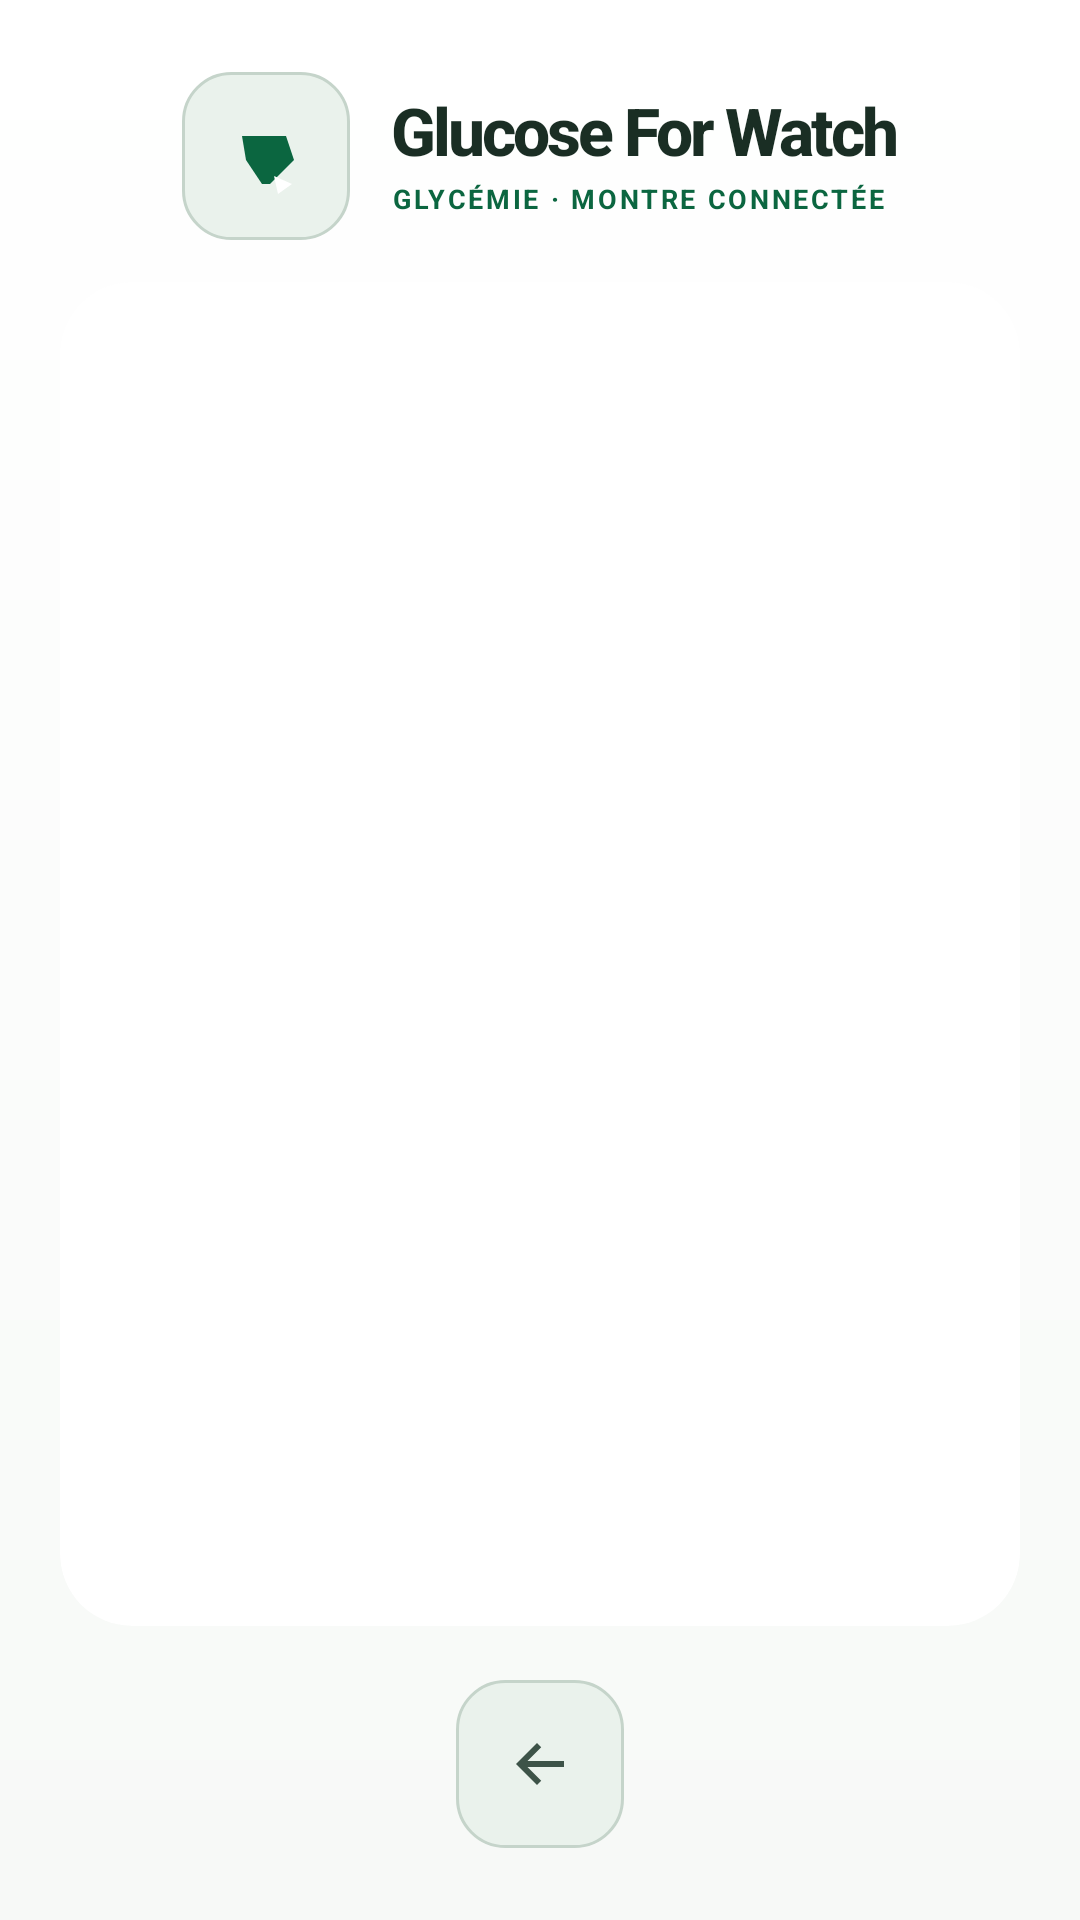

Named icons in this screenshot (1080px×1920px) and their centers, (x,y):
brand wg mark: (268,160)
Retour: (540,1764)
